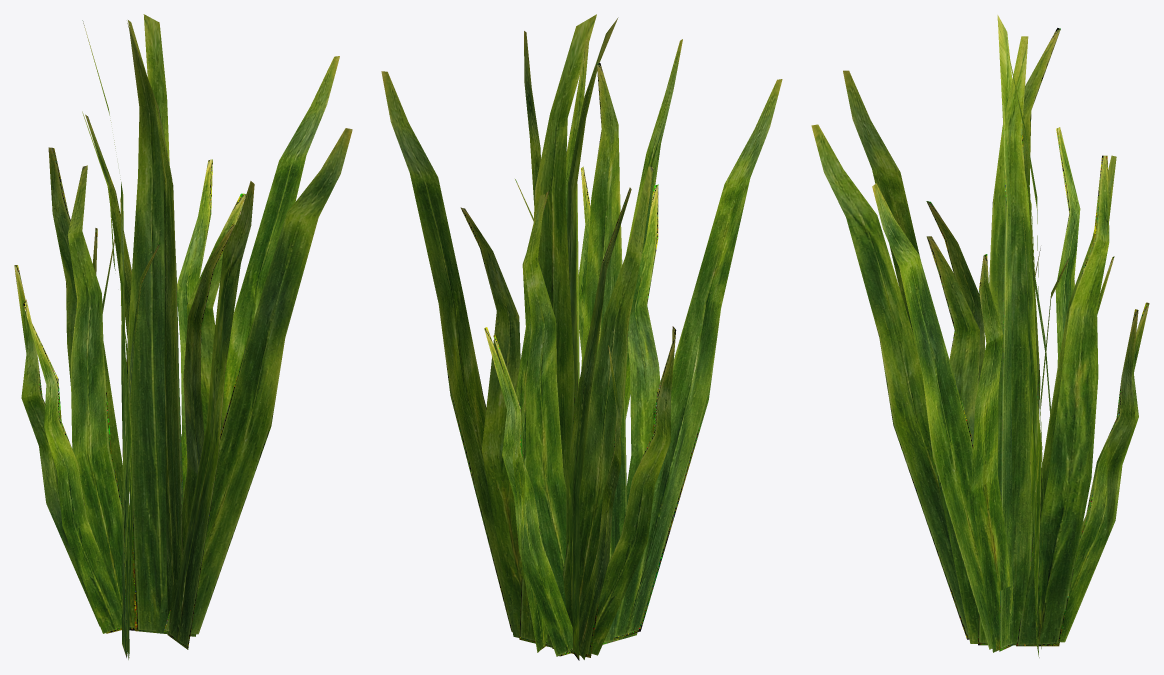
The model's file is grass_fin.glb.
The picture shows the model from 3 angles, left to right: view 1: azimuth 30°, elevation 25°; view 2: azimuth 150°, elevation 25°; view 3: azimuth 270°, elevation 25°; orthographic projection. The views are drawn at different scales.
Visible parts, largest first — view 1: Plane.017; view 2: Plane.017; view 3: Plane.017.
Boxes of the visible parts, x1=… form: Plane.017: x1=14, y1=14, x2=352, y2=659; Plane.017: x1=381, y1=14, x2=782, y2=660; Plane.017: x1=811, y1=15, x2=1149, y2=657.
Bounding box in the file's own units: 2.54 × 4.9 × 2.47.
1 material, 1 textured.
